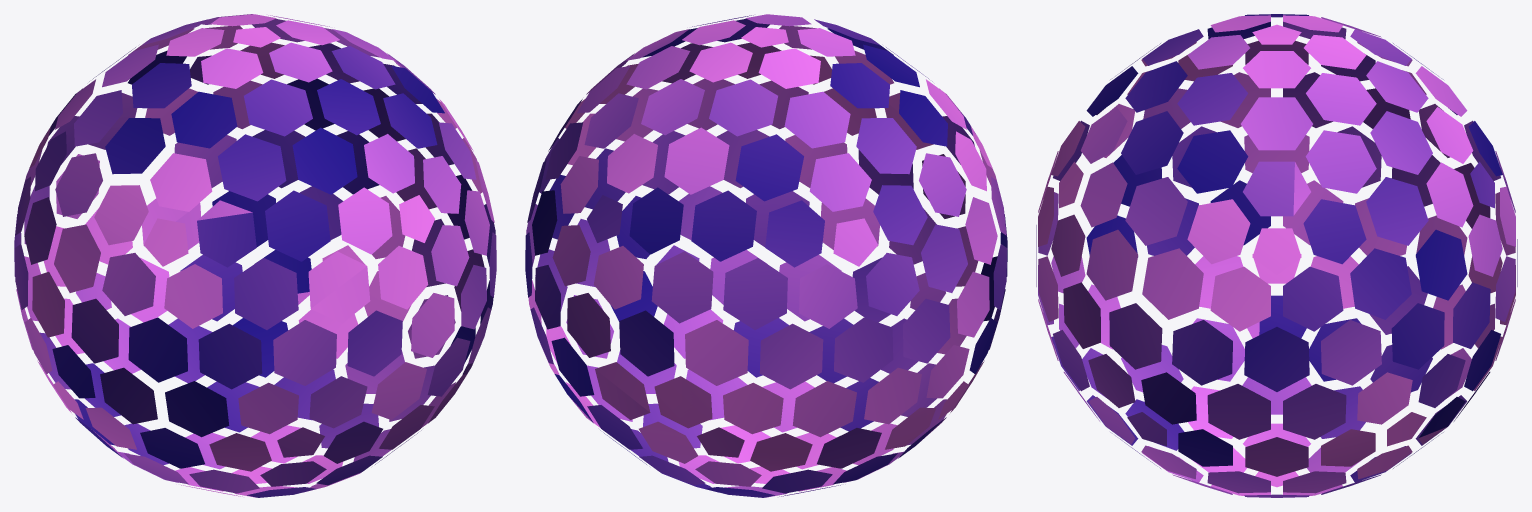
The model's file is Shield.fbx.
3 renders of one model, left to right at view 1: azimuth 30°, elevation 25°; view 2: azimuth 150°, elevation 25°; view 3: azimuth 270°, elevation 25°, orthographic.
Parts seen in each view (by area): view 1: Shield; view 2: Shield; view 3: Shield.
Boxes of the visible parts, x1,y1,x2,y2 form: Shield: (14,14,496,497); Shield: (525,14,1007,497); Shield: (1036,14,1517,497).
Size of the model in its own units: 3.88 by 3.88 by 3.91.
